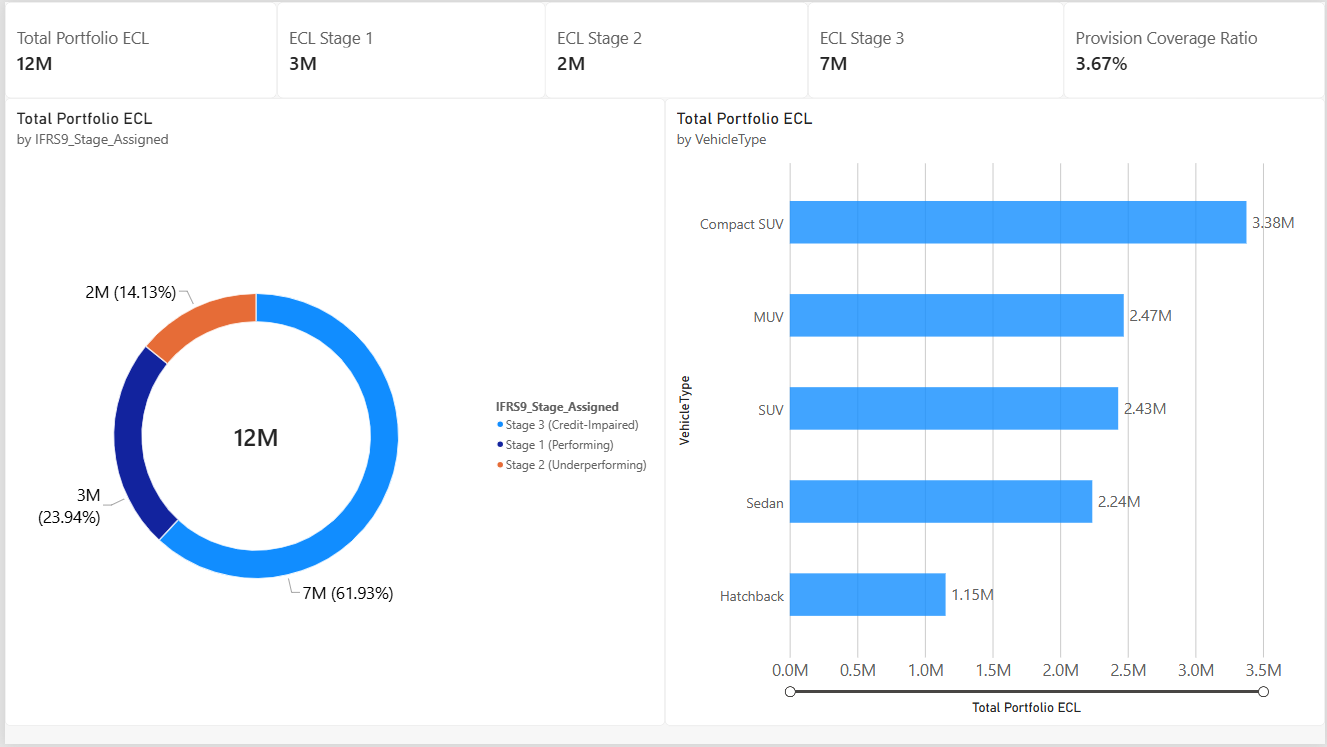

The dashboard page shown, as its layout file describes it:
{"tool":"powerbi","page":{"name":"IFRS 9 ECL Provisioning","canvas":[1920,1080],"ordinal":3},"visuals":[{"type":"cardVisual","fields":{"Data":["_AllMeasures.Total Portfolio ECL"]},"box":[0,0,395,140],"z":0},{"type":"cardVisual","fields":{"Data":["_AllMeasures.ECL Stage 2"]},"box":[785,0,382.5,140],"z":1000},{"type":"cardVisual","fields":{"Data":["_AllMeasures.ECL Stage 3"]},"box":[1167.5,0,372.5,140],"z":2000},{"type":"cardVisual","fields":{"Data":["_AllMeasures.Provision Coverage Ratio"]},"box":[1540,0,380,140],"z":3000},{"type":"cardVisual","fields":{"Data":["_AllMeasures.ECL Stage 1"]},"box":[395,0,390,140],"z":4000},{"type":"donutChart","fields":{"Category":["Fact_Auto_Loans.IFRS9_Stage_Assigned"],"Y":["_AllMeasures.Total Portfolio ECL"]},"box":[0,140,960,912.5],"z":5000},{"type":"clusteredBarChart","fields":{"Category":["Dim_Vehicle.VehicleType"],"Y":["_AllMeasures.Total Portfolio ECL"]},"box":[960,140,960,912.5],"z":6000}]}

Visuals, with their boxes in screenshot pixels (x1, y1, x2, y2), scaled from the page's 1920x1080 canvas onto the 1327x747 screenshot:
cardVisual - _AllMeasures.Total Portfolio ECL: locate(0, 0, 273, 97)
cardVisual - _AllMeasures.ECL Stage 2: locate(543, 0, 807, 97)
cardVisual - _AllMeasures.ECL Stage 3: locate(807, 0, 1064, 97)
cardVisual - _AllMeasures.Provision Coverage Ratio: locate(1064, 0, 1326, 97)
cardVisual - _AllMeasures.ECL Stage 1: locate(273, 0, 543, 97)
donutChart - Fact_Auto_Loans.IFRS9_Stage_Assigned x _AllMeasures.Total Portfolio ECL: locate(0, 97, 664, 728)
clusteredBarChart - Dim_Vehicle.VehicleType x _AllMeasures.Total Portfolio ECL: locate(664, 97, 1326, 728)
